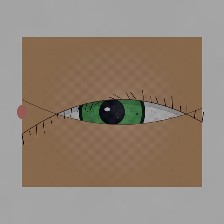pinguecula_lesion: (41, 101, 90, 140)
